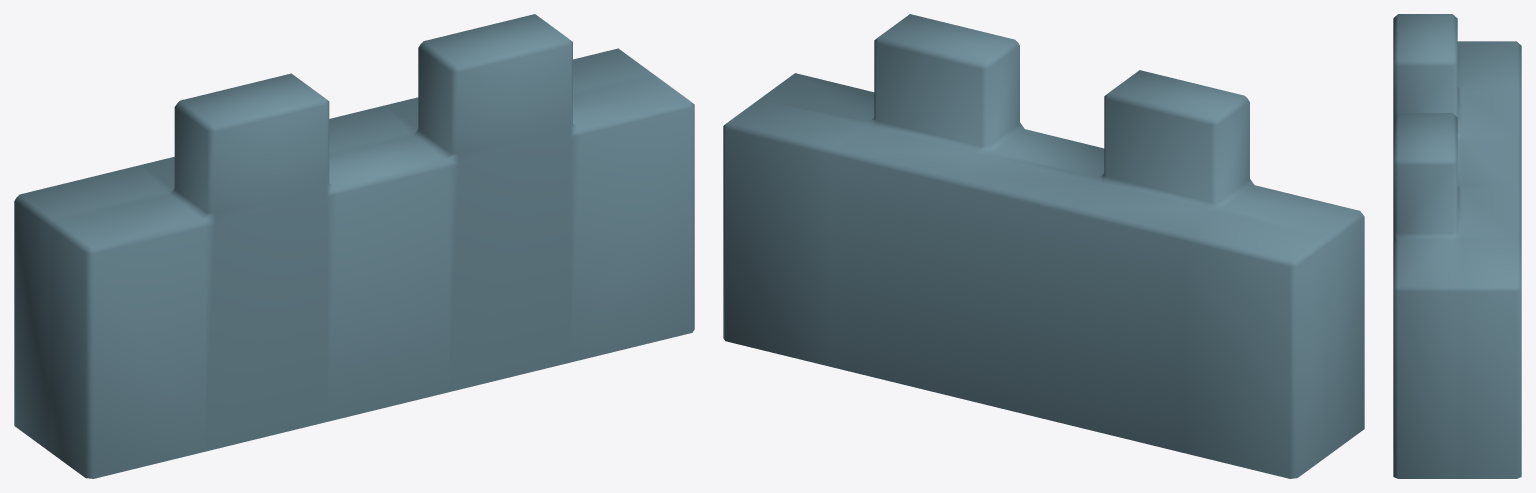
File: wall.001.glb
The picture shows the model from 3 angles, left to right: view 1: azimuth 30°, elevation 25°; view 2: azimuth 150°, elevation 25°; view 3: azimuth 270°, elevation 25°; orthographic projection. The views are drawn at different scales.
Visible parts, largest first — view 1: wall.001; view 2: wall.001; view 3: wall.001.
Part boxes in pixels (left/top/right/bottom): wall.001: left=14, top=14, right=694, bottom=478; wall.001: left=723, top=14, right=1364, bottom=478; wall.001: left=1393, top=14, right=1521, bottom=478.
Bounding box in the file's own units: 6 × 3.04 × 1.31.
